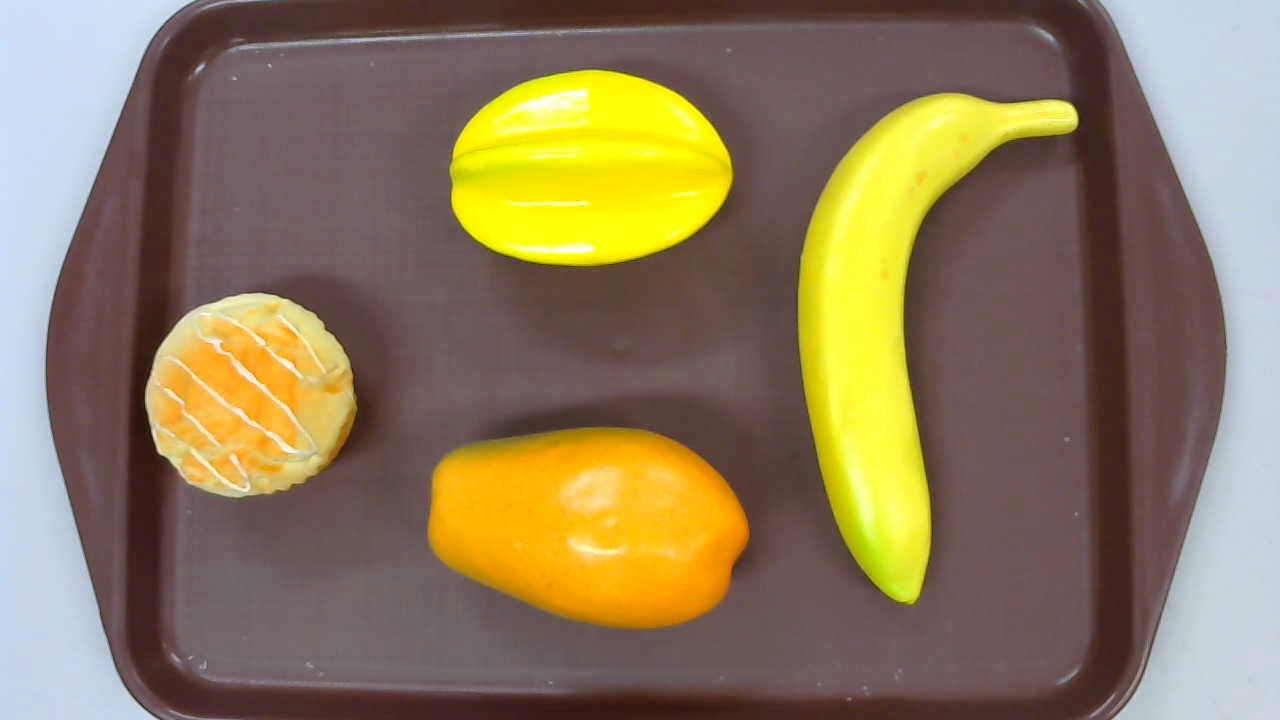banana: (797, 92, 1078, 603)
cupcake: (145, 293, 357, 498)
papya: (428, 425, 751, 630)
star fruit: (448, 69, 735, 267)
